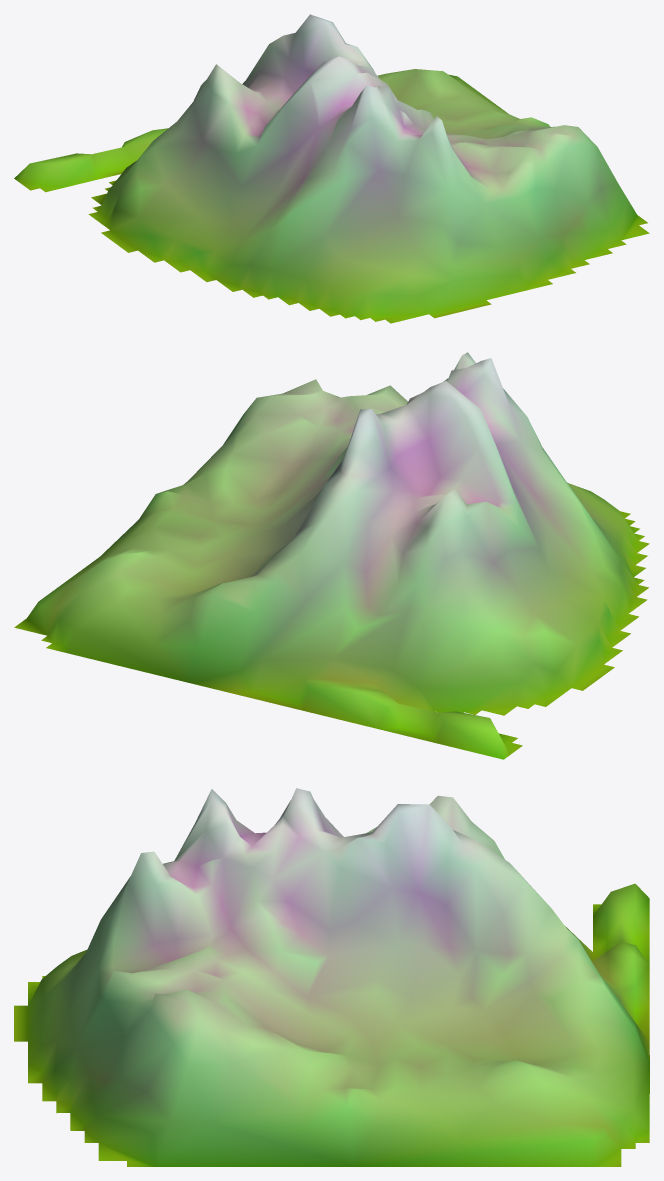
File: mountain_b.glb
The picture shows the model from 3 angles, top to bottom: view 1: azimuth 30°, elevation 25°; view 2: azimuth 150°, elevation 25°; view 3: azimuth 270°, elevation 25°; orthographic projection. The views are drawn at different scales.
Visible parts, largest first — view 1: mountain_b; view 2: mountain_b; view 3: mountain_b.
Part boxes in pixels (left/top/right/bottom): mountain_b: left=14, top=14, right=649, bottom=323; mountain_b: left=14, top=352, right=649, bottom=759; mountain_b: left=14, top=788, right=649, bottom=1166.
Size of the model in its own units: 1 by 0.3948 by 1.
